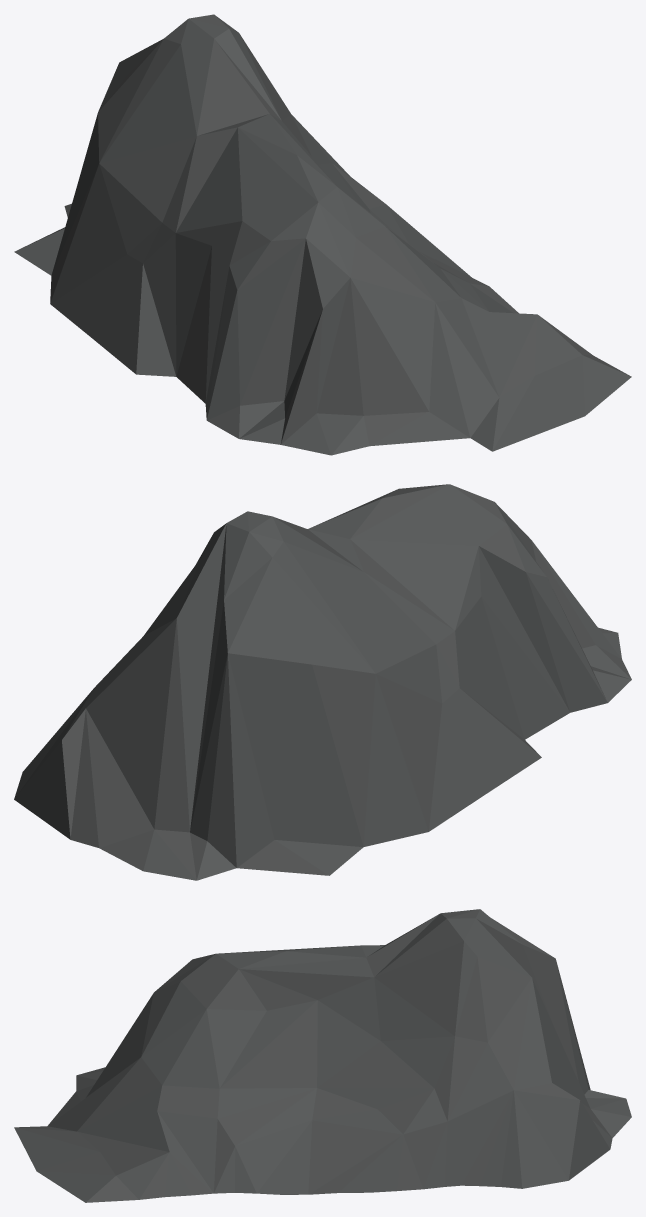
Rendered from obj_mountain2.fbx.
The picture shows the model from 3 angles, top to bottom: view 1: azimuth 30°, elevation 25°; view 2: azimuth 150°, elevation 25°; view 3: azimuth 270°, elevation 25°; orthographic projection. The views are drawn at different scales.
Visible parts, largest first — view 1: obj_mountain2; view 2: obj_mountain2; view 3: obj_mountain2.
Boxes of the visible parts, x1,y1,x2,y2 form: obj_mountain2: (14, 14, 631, 455); obj_mountain2: (14, 484, 631, 880); obj_mountain2: (14, 909, 631, 1202).
Size of the model in its own units: 41.96 by 26.17 by 71.21.
Materials: 1 (1 with a texture image).
